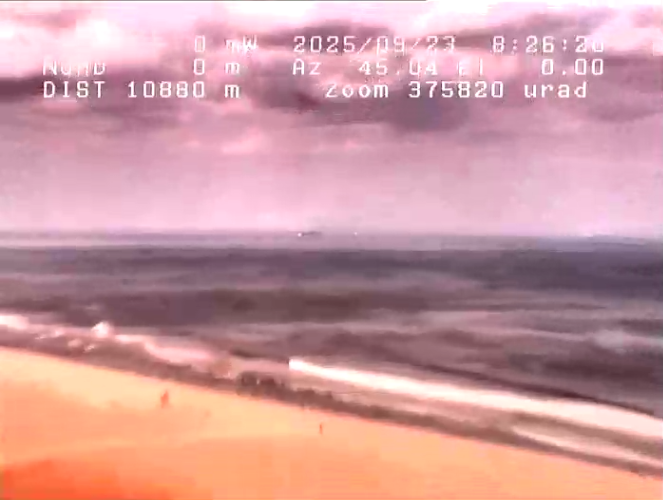TANKER: (293, 229, 324, 240)
